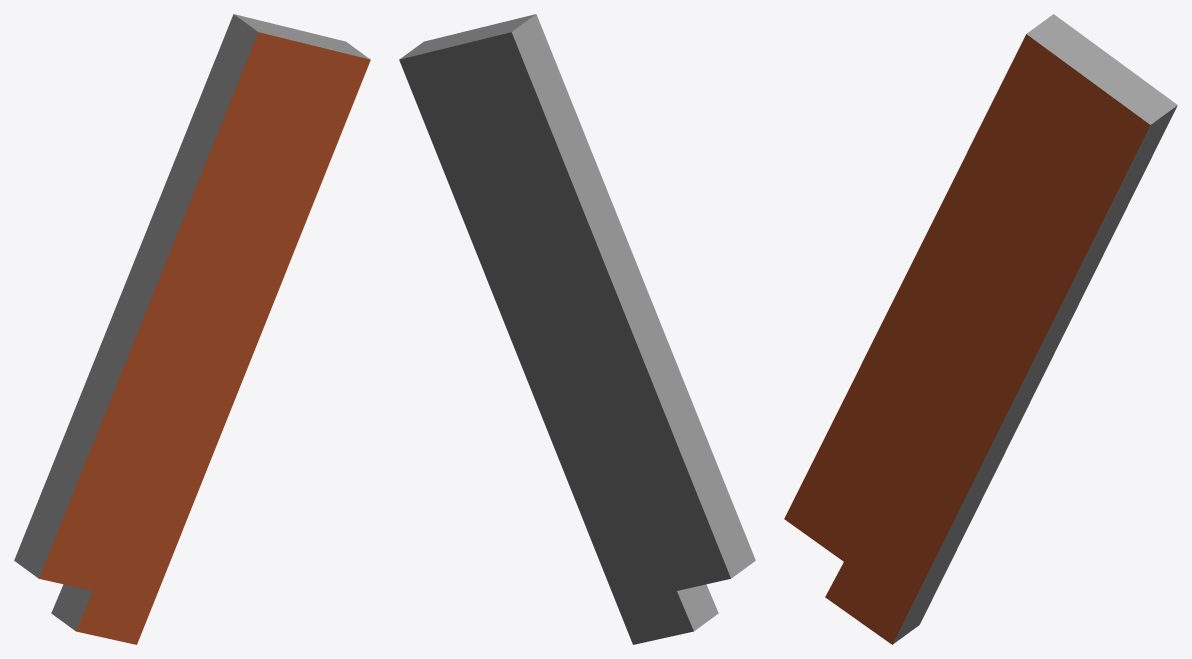
Rendered from construction_0081_assumed_A_Estufa_h6m.obj.
The picture shows the model from 3 angles, left to right: view 1: azimuth 30°, elevation 25°; view 2: azimuth 150°, elevation 25°; view 3: azimuth 330°, elevation 25°; orthographic projection. The views are drawn at different scales.
Parts seen in each view (by area): view 1: construction_0081_assumed_A_Estufa; view 2: construction_0081_assumed_A_Estufa; view 3: construction_0081_assumed_A_Estufa.
Part boxes in pixels (x1,y1,x2,y2): construction_0081_assumed_A_Estufa: (14, 14, 370, 644); construction_0081_assumed_A_Estufa: (399, 14, 755, 644); construction_0081_assumed_A_Estufa: (784, 14, 1177, 644).
Bounding box in the file's own units: 46.45 × 77.97 × 6.
